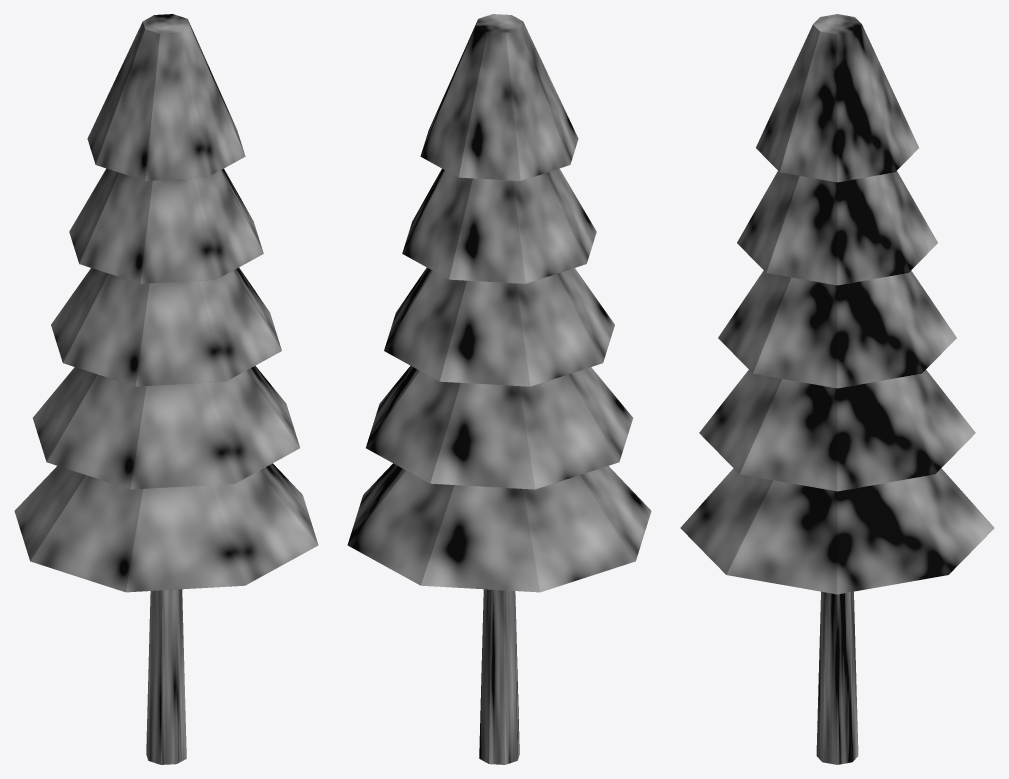
File: tree_pine_large.glb
The picture shows the model from 3 angles, left to right: view 1: azimuth 30°, elevation 25°; view 2: azimuth 150°, elevation 25°; view 3: azimuth 270°, elevation 25°; orthographic projection.
Parts seen in each view (by area): view 1: tree_pine_large; view 2: tree_pine_large; view 3: tree_pine_large.
Boxes of the visible parts, box(x1,y1,x2,y2) form: tree_pine_large: box(14, 14, 318, 764); tree_pine_large: box(347, 14, 651, 764); tree_pine_large: box(680, 14, 994, 764).
Size of the model in its own units: 4.2 by 10.78 by 4.2.
1 material, 1 textured.
